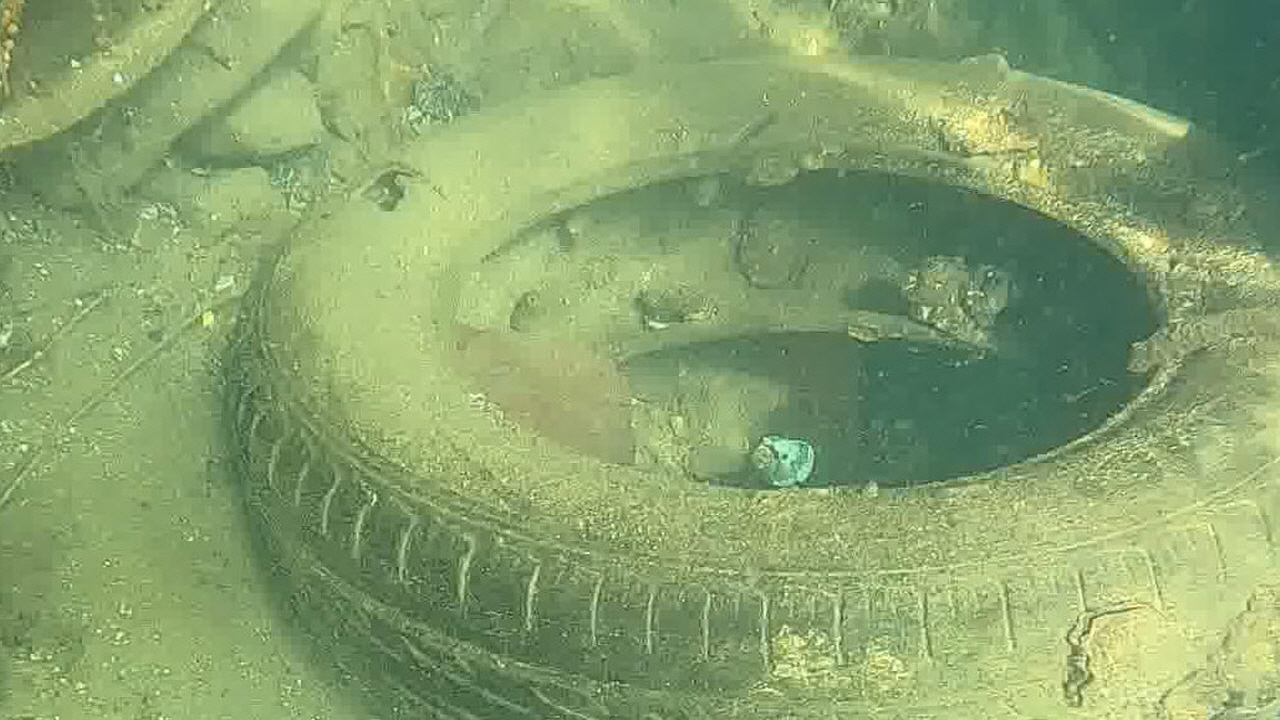tire: (222, 56, 1280, 720)
